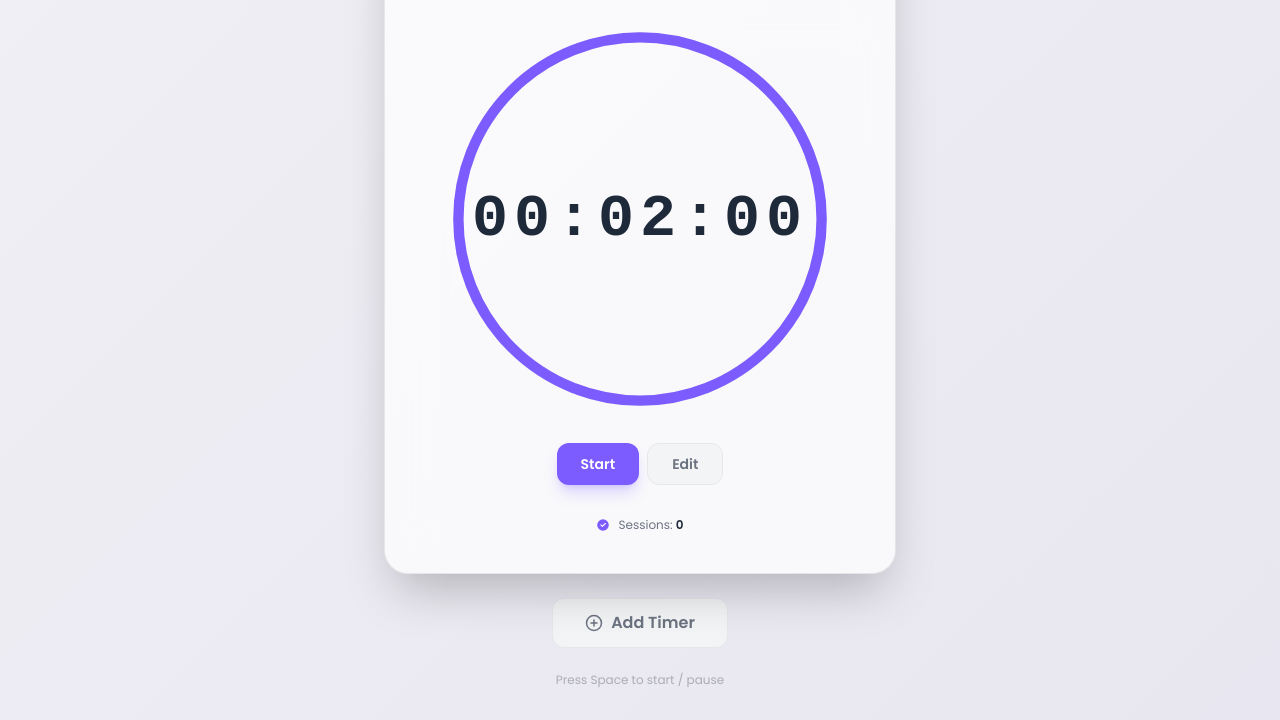
it: Edit Timer › should not accept negative numbers
(page scrolled)
Click the button with aria-label "edit button": {"x": 685, "y": 464} [647,443,723,485]
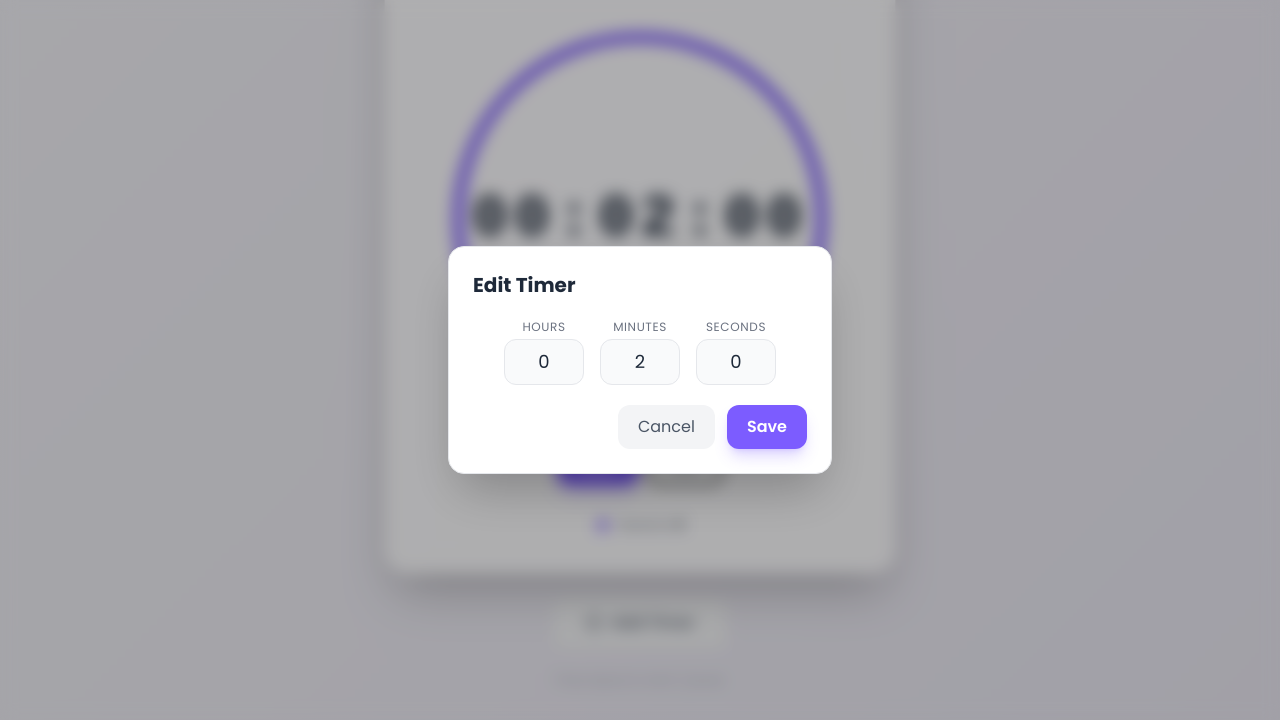
Clear the field labelled "Minutes": {"x": 640, "y": 362} [600,339,680,385]
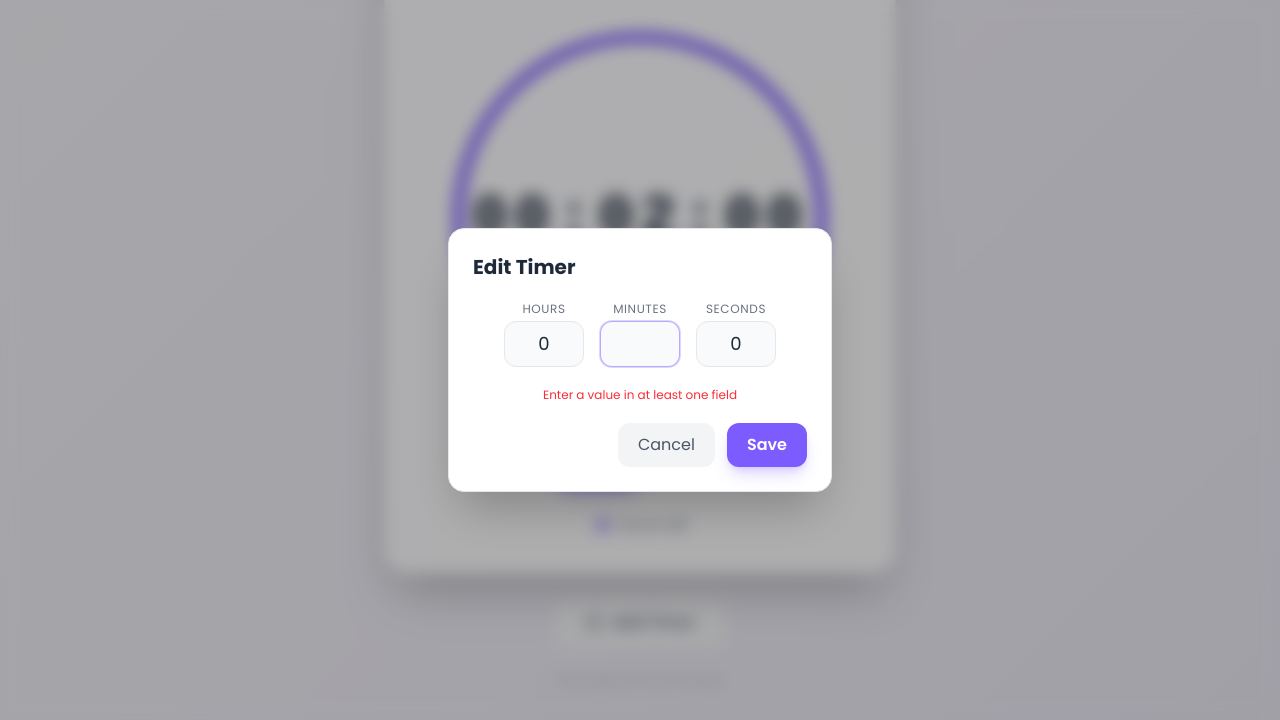
In the field labelled "Minutes": {"x": 640, "y": 344} [600,321,680,367], type "-5"
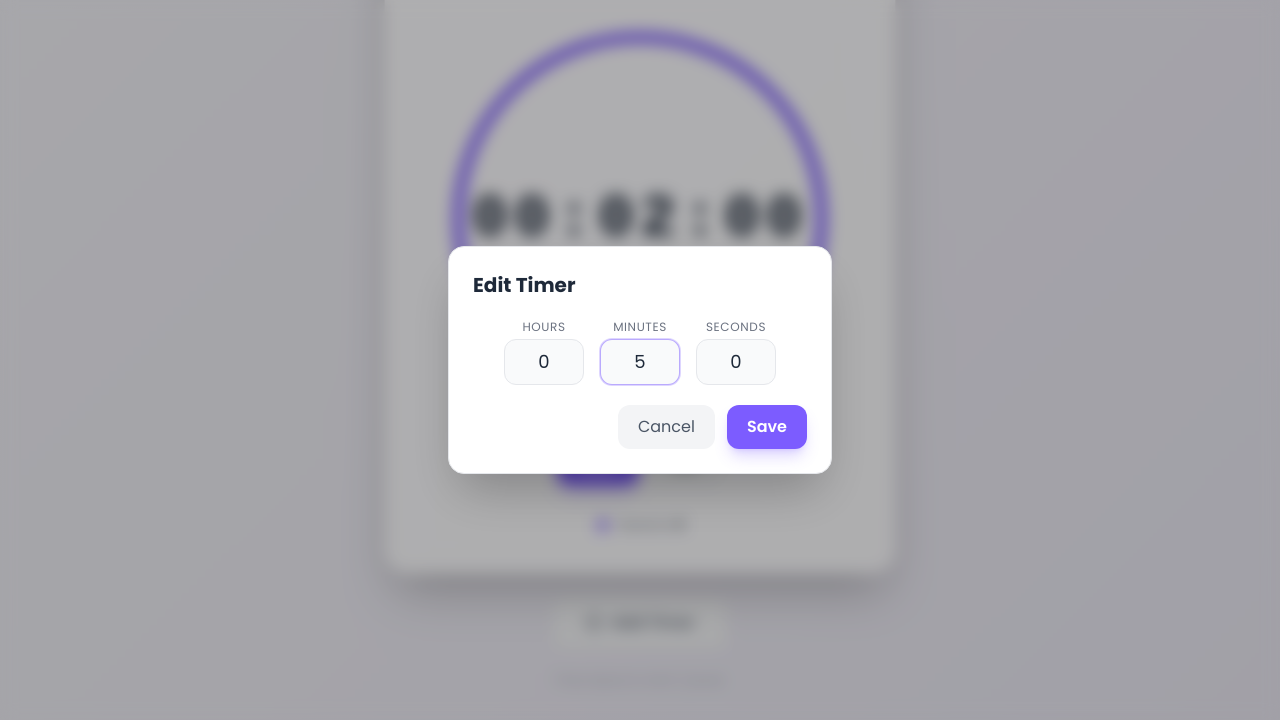
Check: the field labelled "Minutes" does not hold "-5", box [600,339,680,385]
